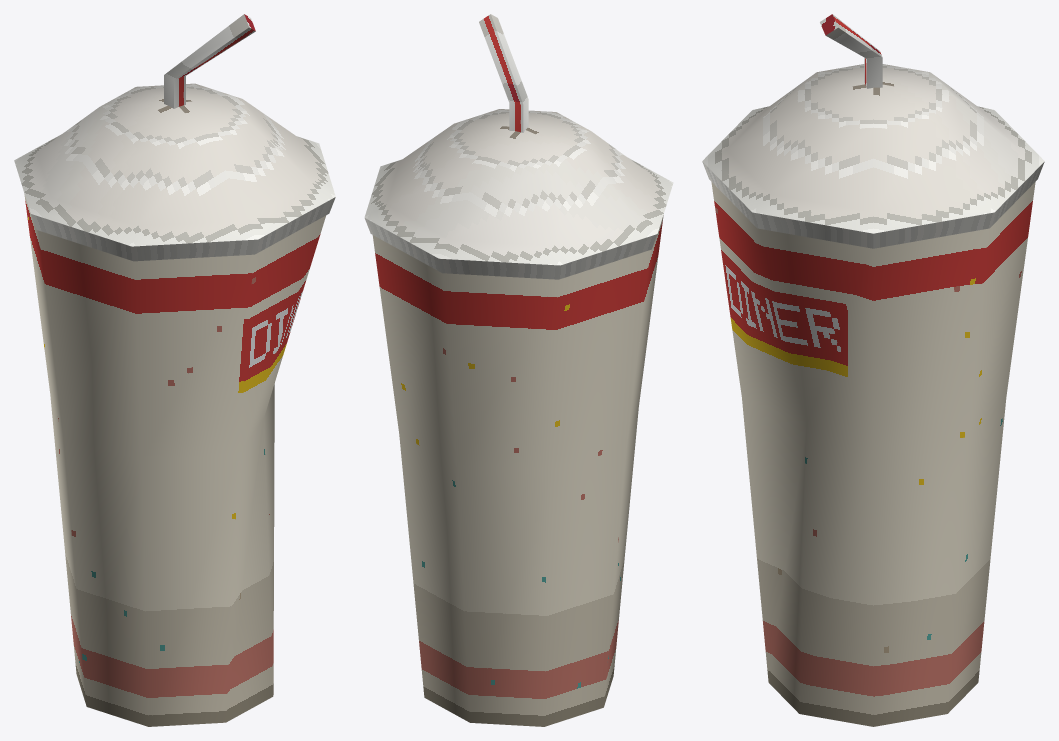
Rendered from SM_Motel_TakeoutCup.glb.
3 views of the same model, side by side, from view 1: azimuth 30°, elevation 25°; view 2: azimuth 150°, elevation 25°; view 3: azimuth 270°, elevation 25° (orthographic). The views are drawn at different scales.
Visible parts, largest first — view 1: SM_Motel_TakeoutCup; view 2: SM_Motel_TakeoutCup; view 3: SM_Motel_TakeoutCup.
Boxes of the visible parts, <box> form: SM_Motel_TakeoutCup: <box>14,14,335,726</box>; SM_Motel_TakeoutCup: <box>364,14,673,726</box>; SM_Motel_TakeoutCup: <box>702,14,1044,726</box>.
Size of what is drawn, in the model's own units: 0.098 by 0.2188 by 0.098.
1 material, 1 textured.
